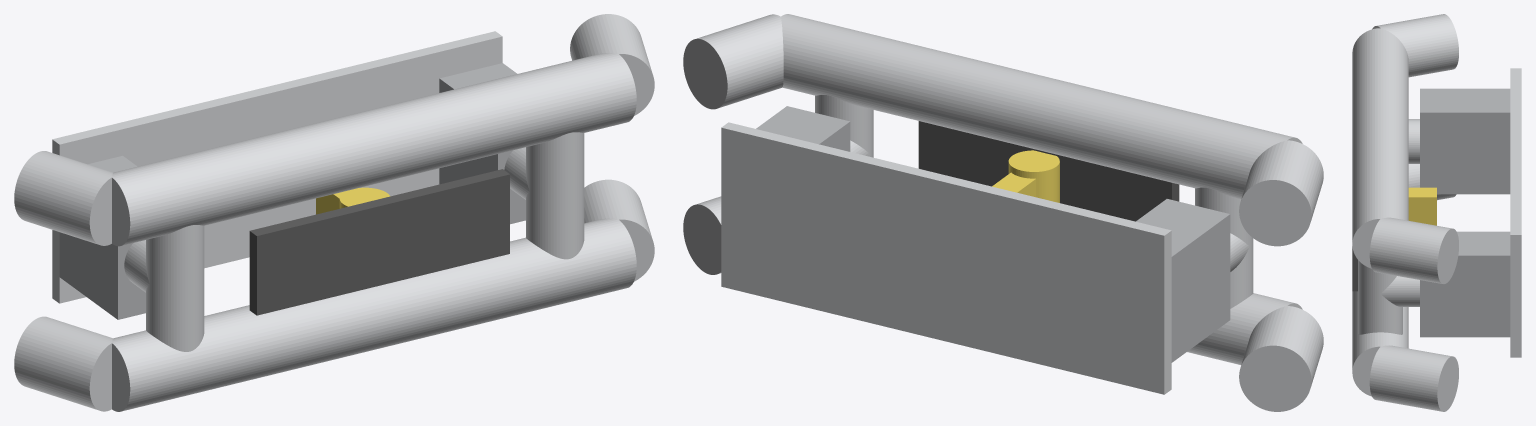
Rendered from rover34_bumper_s.glb.
3 views of the same model, side by side, from view 1: azimuth 30°, elevation 25°; view 2: azimuth 150°, elevation 25°; view 3: azimuth 270°, elevation 25° (orthographic). The views are drawn at different scales.
Visible parts, largest first — view 1: push_bar, mount_plate, rubber_pads, crush_boxes, tow_eye; view 2: mount_plate, push_bar, crush_boxes, rubber_pads, tow_eye; view 3: push_bar, crush_boxes, mount_plate, tow_eye, rubber_pads.
Part boxes in pixels (box(x1,y1,x2,y2)): push_bar: box(14, 14, 654, 411); mount_plate: box(52, 31, 502, 303); rubber_pads: box(249, 169, 509, 315); crush_boxes: box(59, 63, 525, 319); tow_eye: box(316, 187, 390, 214); mount_plate: box(721, 122, 1171, 394); push_bar: box(683, 14, 1323, 411); crush_boxes: box(756, 106, 1230, 362); rubber_pads: box(918, 121, 1179, 221); tow_eye: box(992, 150, 1059, 202); push_bar: box(1352, 14, 1458, 411); crush_boxes: box(1420, 88, 1510, 337); mount_plate: box(1510, 68, 1521, 357); tow_eye: box(1408, 187, 1436, 225); rubber_pads: box(1352, 246, 1357, 291).
Bounding box in the file's own units: 0.9923 × 0.35 × 0.3.
